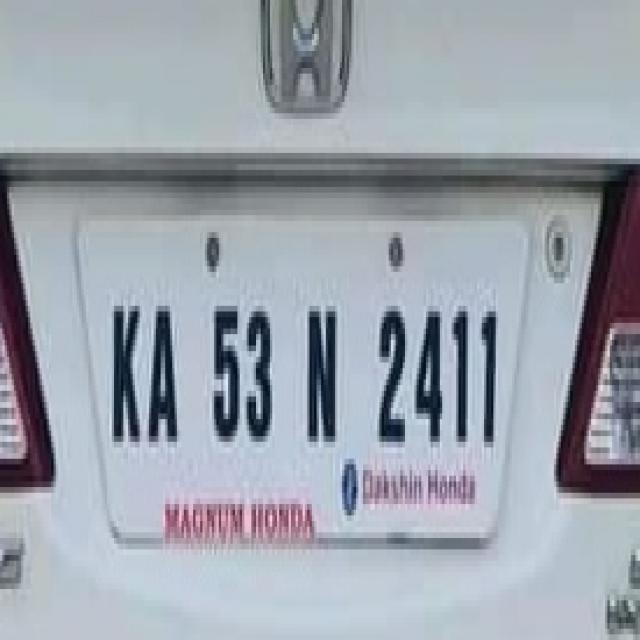1: (446, 296, 476, 454), (478, 290, 503, 452)
3: (243, 291, 276, 447)
4: (413, 297, 445, 459)
5: (205, 289, 243, 452)
A: (146, 292, 182, 450)
K: (106, 288, 144, 448)
N: (303, 288, 340, 453)
